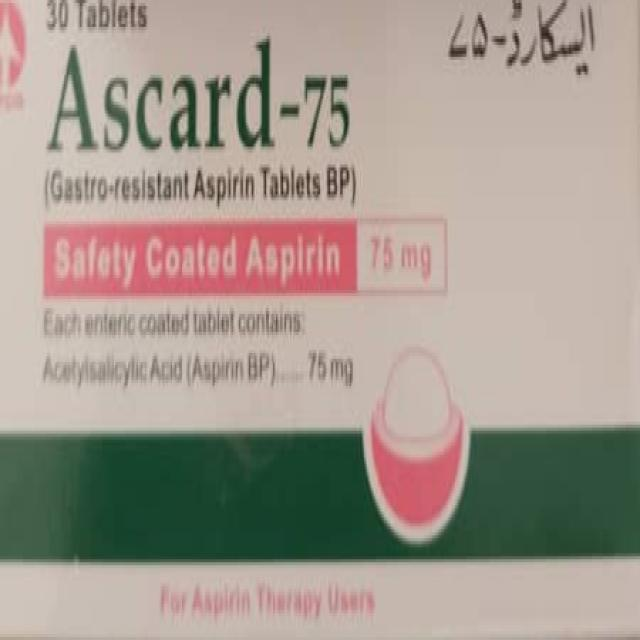drug-name: (45, 39, 358, 153)
